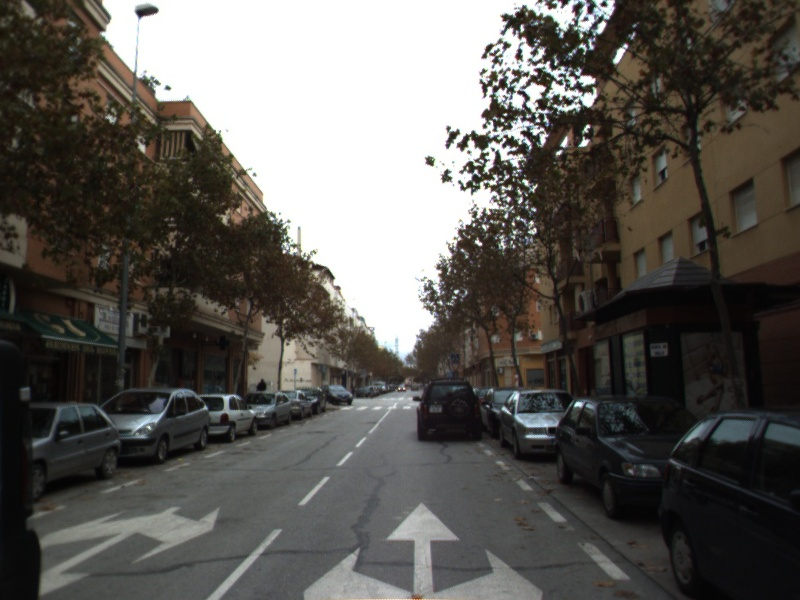STRAIGHT_LEFT_RIGHT: (298, 499, 547, 600)
